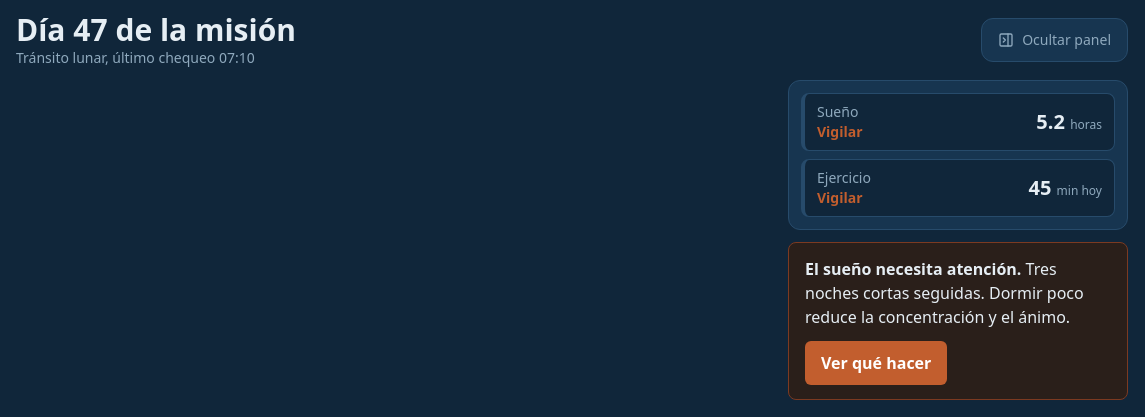
pantallas traducidas › Hoy: en español por defecto
This screenshot has width=1145, height=417.
Expected: the heading reads "Día 47 de la misión", [16,9,296,50]
Expected: the text "Tránsito lunar, último chequeo 07:10" is shown, [16,48,296,68]
Click the button "Ocultar panel".
click(1055, 40)  # box [981,18,1128,62]
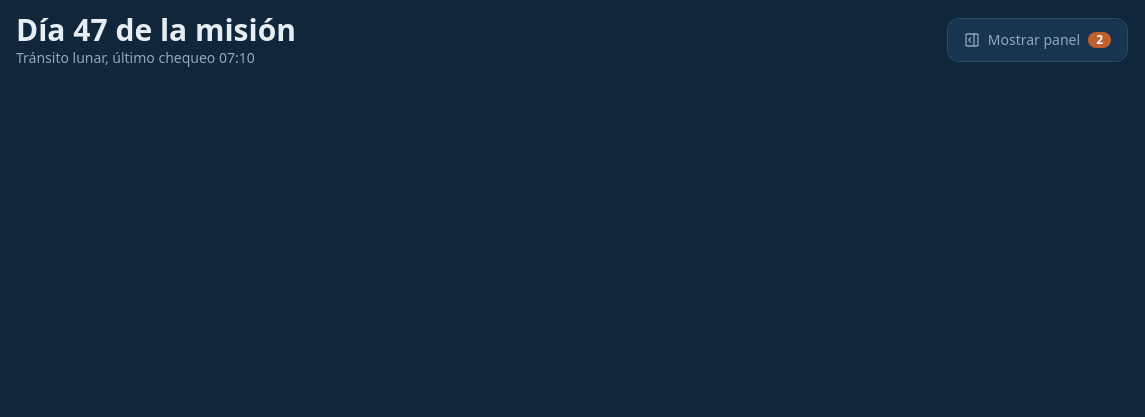
Expected: the button "Mostrar panel 2" is collapsed, [947,18,1128,62]
